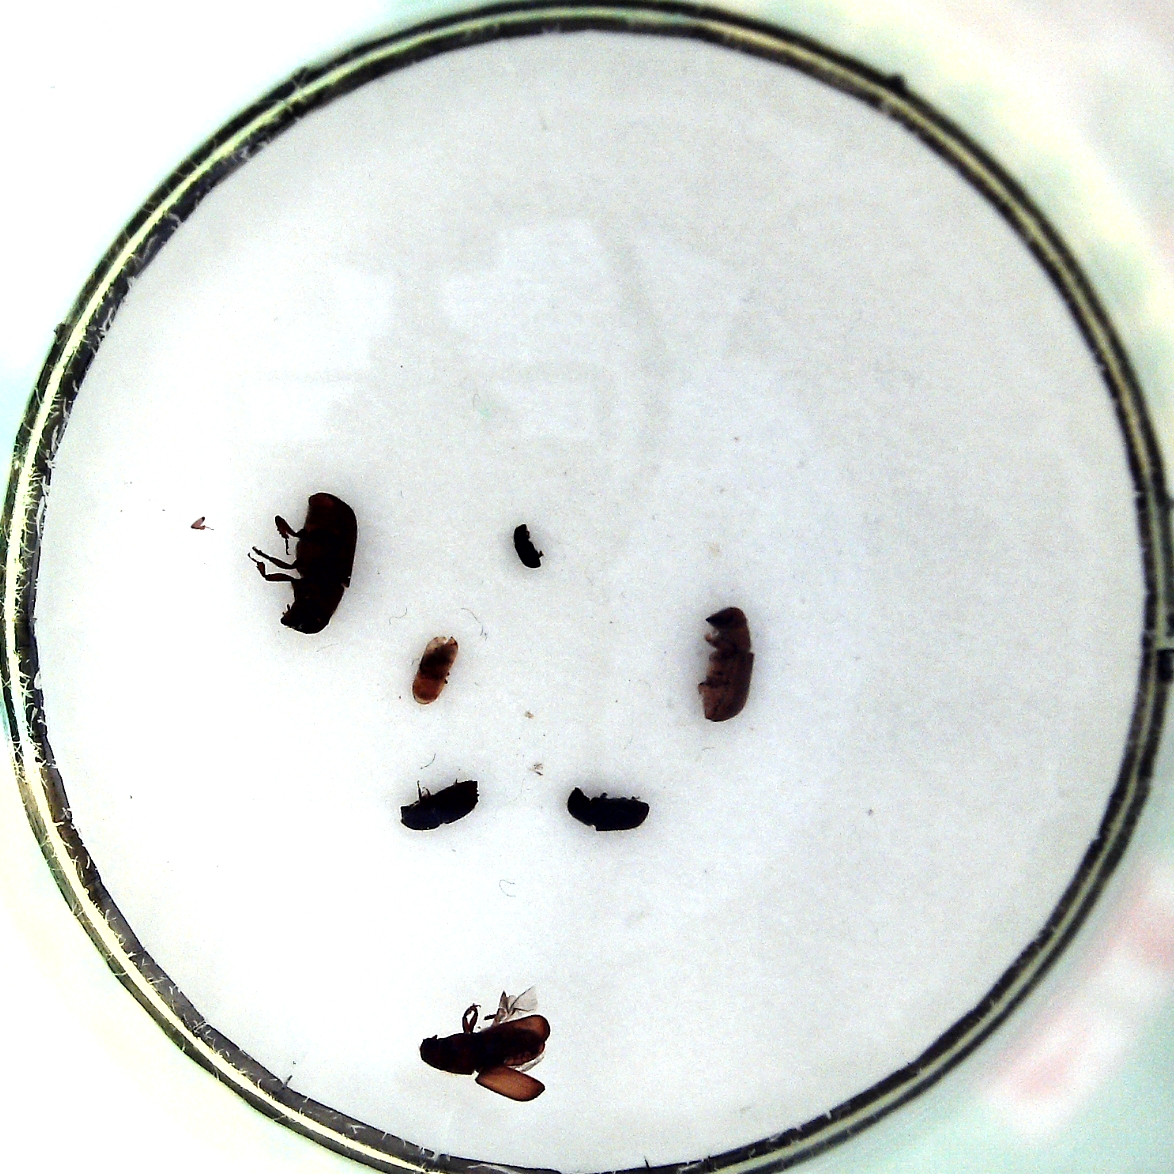Leconte: (254, 491, 359, 634), (416, 993, 552, 1103), (696, 606, 757, 722)
Linnaeus: (398, 776, 482, 829)
acuminatus: (409, 632, 462, 707)
armandi: (560, 781, 652, 832)
coleoptera: (509, 517, 544, 571)
